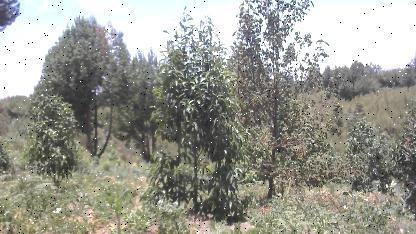tree: (134, 3, 252, 221), (228, 0, 334, 198), (36, 14, 140, 168)
